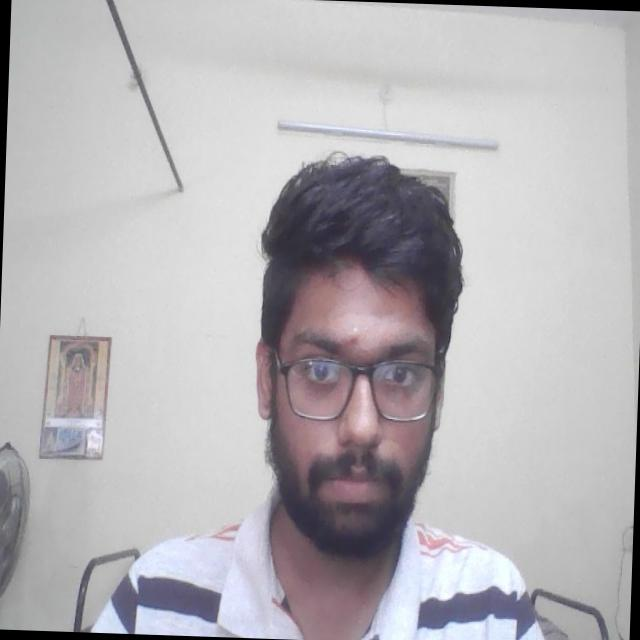Focused: (258, 290, 446, 520)
